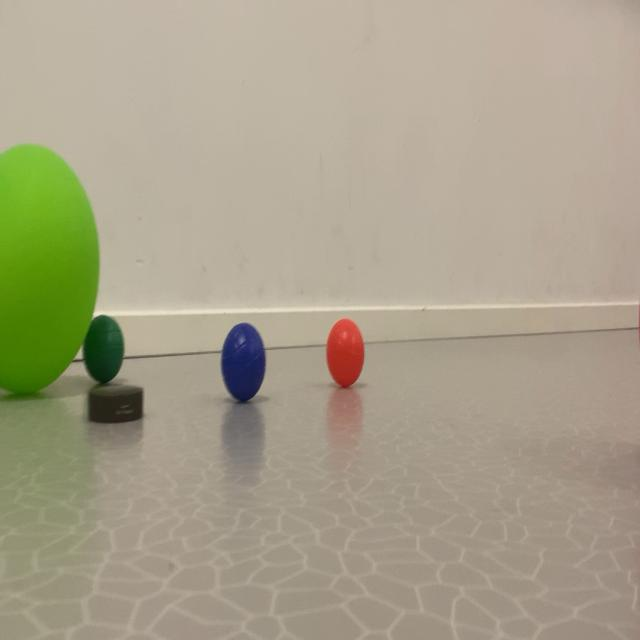6: (190, 311, 393, 442), (298, 281, 391, 450)
blue ball: (72, 292, 397, 379)
green ball: (200, 246, 274, 433)
red ball: (77, 274, 131, 380)
